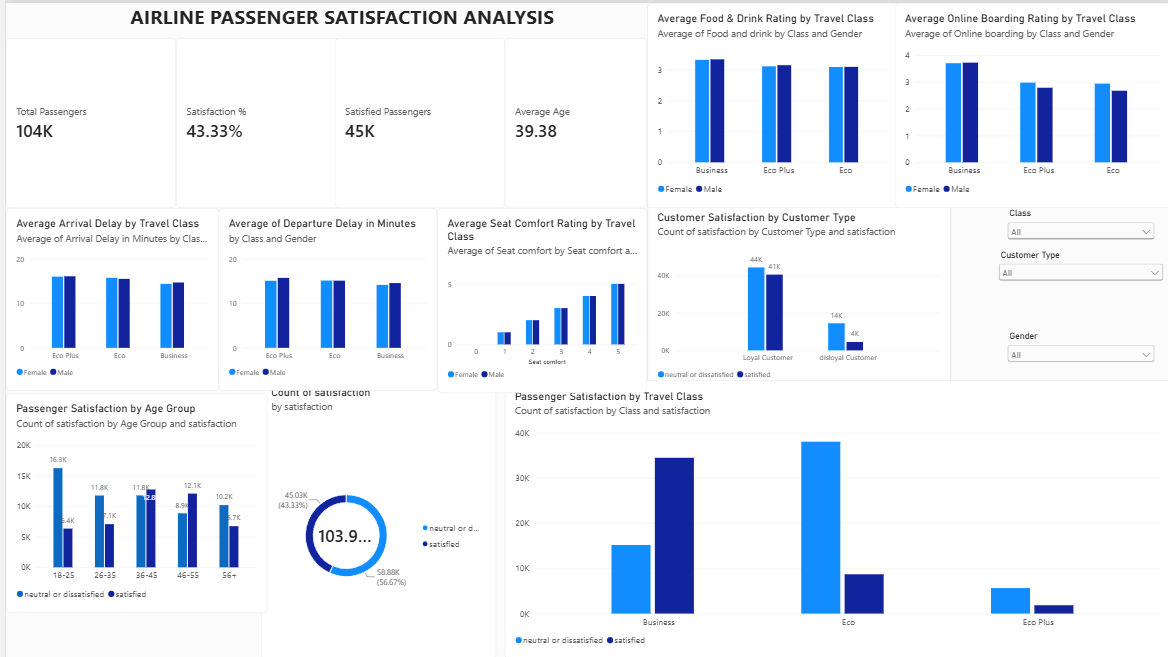

Layout of this report page (visuals, bound fields, positions):
{"tool":"powerbi","page":{"name":"Passenger Satisfaction","canvas":[1920,1080],"ordinal":2},"visuals":[{"type":"cardVisual","fields":{"Data":["airlines.Total Passengers"]},"box":[0,57.6,280,280],"z":0},{"type":"cardVisual","fields":{"Data":["airlines.Satisfaction %"]},"box":[279.9,57.6,280,280],"z":1000},{"type":"cardVisual","fields":{"Data":["airlines.Satisfied Passengers"]},"box":[541.3,57.6,280,280],"z":2000},{"type":"cardVisual","fields":{"Data":["airlines.Average Age"]},"box":[821.3,57.6,234.6,279.9],"z":3000},{"type":"donutChart","fields":{"Category":["train.satisfaction"],"Y":["CountNonNull(train.satisfaction)"]},"box":[419.9,615.4,387,465.2],"z":4000},{"type":"clusteredColumnChart","title":"Customer Satisfaction by Customer Type","fields":{"Category":["train.Customer Type"],"Series":["train.satisfaction"],"Y":["CountNonNull(train.satisfaction)"]},"box":[1055.9,327.3,500.2,314.9],"z":5000},{"type":"clusteredColumnChart","title":"Passenger Satisfaction by Travel Class","fields":{"Category":["train.Class"],"Series":["train.satisfaction"],"Y":["CountNonNull(train.satisfaction)"]},"box":[821.3,621.6,1099.1,459],"z":6000},{"type":"slicer","fields":{"Values":["train.Gender"]},"box":[1644.6,539.3,251.1,164.7],"z":7000},{"type":"slicer","fields":{"Values":["train.Customer Type"]},"box":[1630.2,405.5,279.9,236.7],"z":8000},{"type":"textbox","box":[1274,807,646,273],"z":9000},{"type":"textbox","box":[0,0,1107.4,57.6],"z":10000},{"type":"clusteredColumnChart","title":"Passenger Satisfaction by Age Group","fields":{"Category":["train.Age Group1"],"Series":["train.satisfaction"],"Y":["CountNonNull(train.satisfaction)"]},"box":[0,642.2,430.2,362.3],"z":11000},{"type":"slicer","fields":{"Values":["train.Class"]},"box":[1644.6,337.6,251.1,115.3],"z":12000},{"type":"clusteredColumnChart","title":"Average Arrival Delay by Travel Class","fields":{"Category":["train.Class"],"Series":["train.Gender"],"Y":["Avg(train.Arrival Delay in Minutes)"]},"box":[0,337.6,352,300.5],"z":13000},{"type":"clusteredColumnChart","fields":{"Category":["train.Class"],"Series":["train.Gender"],"Y":["Avg(train.Departure Delay in Minutes)"]},"box":[349.9,337.6,360.2,300.5],"z":14000},{"type":"clusteredColumnChart","title":"Average Seat Comfort Rating by Travel Class","fields":{"Category":["train.Seat comfort"],"Series":["train.Gender"],"Y":["Avg(train.Seat comfort)"]},"box":[710.1,337.6,345.8,304.6],"z":15000},{"type":"clusteredColumnChart","title":"Average Food & Drink Rating by Travel Class","fields":{"Category":["train.Class"],"Series":["train.Gender"],"Y":["Avg(train.Food and drink)"]},"box":[1055.9,0,415.8,337.6],"z":16000},{"type":"clusteredColumnChart","title":"Average Online Boarding Rating by Travel Class","fields":{"Category":["train.Class"],"Series":["train.Gender"],"Y":["Avg(train.Online boarding)"]},"box":[1463.5,0,456.9,337.6],"z":17000}]}

Visuals, with their boxes in screenshot pixels (x1, y1, x2, y2), scaled from the page's 1920x1080 canvas onto the 1168x657 screenshot:
cardVisual - airlines.Total Passengers: 0/35/170/205
cardVisual - airlines.Satisfaction %: 170/35/341/205
cardVisual - airlines.Satisfied Passengers: 329/35/500/205
cardVisual - airlines.Average Age: 500/35/642/205
donutChart - train.satisfaction x CountNonNull(train.satisfaction): 255/374/491/656
"Customer Satisfaction by Customer Type" clusteredColumnChart: 642/199/947/391
"Passenger Satisfaction by Travel Class" clusteredColumnChart: 500/378/1167/656
slicer - train.Gender: 1000/328/1153/428
slicer - train.Customer Type: 992/247/1162/391
textbox: 775/491/1167/656
textbox: 0/0/674/35
"Passenger Satisfaction by Age Group" clusteredColumnChart: 0/391/262/611
slicer - train.Class: 1000/205/1153/276
"Average Arrival Delay by Travel Class" clusteredColumnChart: 0/205/214/388
clusteredColumnChart - train.Class x train.Gender: 213/205/432/388
"Average Seat Comfort Rating by Travel Class" clusteredColumnChart: 432/205/642/391
"Average Food & Drink Rating by Travel Class" clusteredColumnChart: 642/0/895/205
"Average Online Boarding Rating by Travel Class" clusteredColumnChart: 890/0/1167/205
